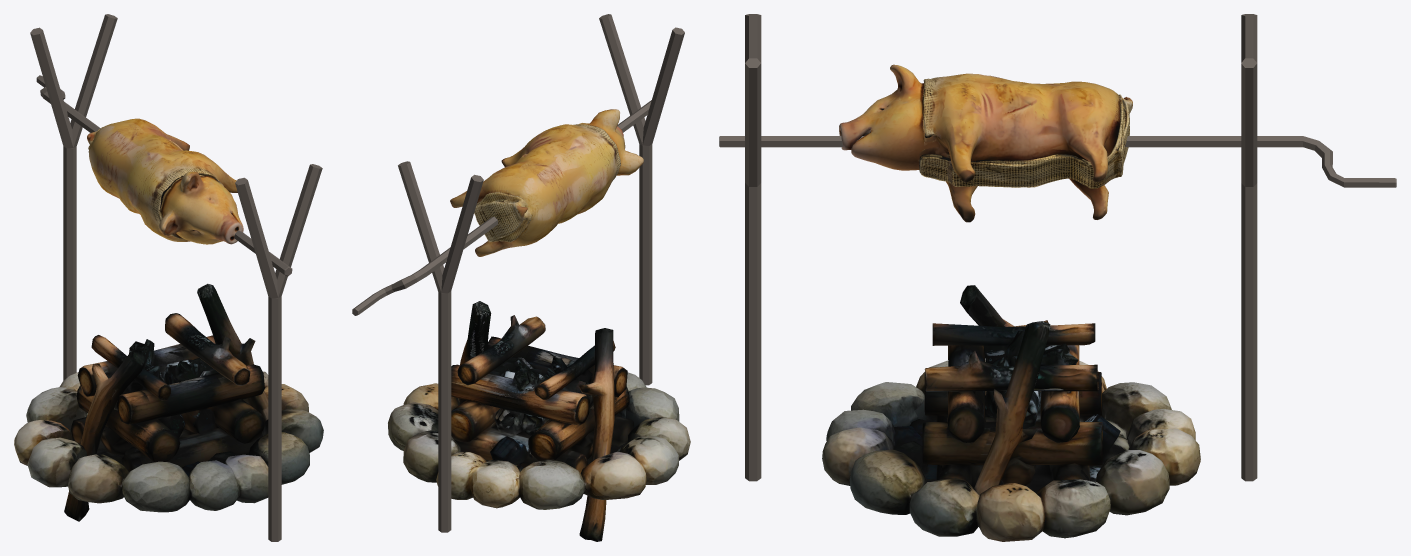
3 renders of one model, left to right at view 1: azimuth 30°, elevation 25°; view 2: azimuth 150°, elevation 25°; view 3: azimuth 270°, elevation 25°, orthographic. The views are drawn at different scales.
Parts seen in each view (by area): view 1: meshes[0], tripo_node_ea945b5b, Cylinder; view 2: meshes[0], tripo_node_ea945b5b, Cylinder; view 3: meshes[0], tripo_node_ea945b5b, Cylinder.
Boxes of the visible parts, left/top/right/bottom form: meshes[0]: left=14, top=283, right=323, bottom=521; tripo_node_ea945b5b: left=36, top=75, right=292, bottom=276; Cylinder: left=30, top=14, right=322, bottom=541; meshes[0]: left=388, top=301, right=690, bottom=541; tripo_node_ea945b5b: left=352, top=100, right=651, bottom=315; Cylinder: left=398, top=14, right=684, bottom=532; meshes[0]: left=822, top=285, right=1200, bottom=541; tripo_node_ea945b5b: left=719, top=64, right=1396, bottom=222; Cylinder: left=745, top=14, right=1257, bottom=481.
Bounding box in the file's own units: 129 × 191 × 230.
3 materials, 2 textured.
